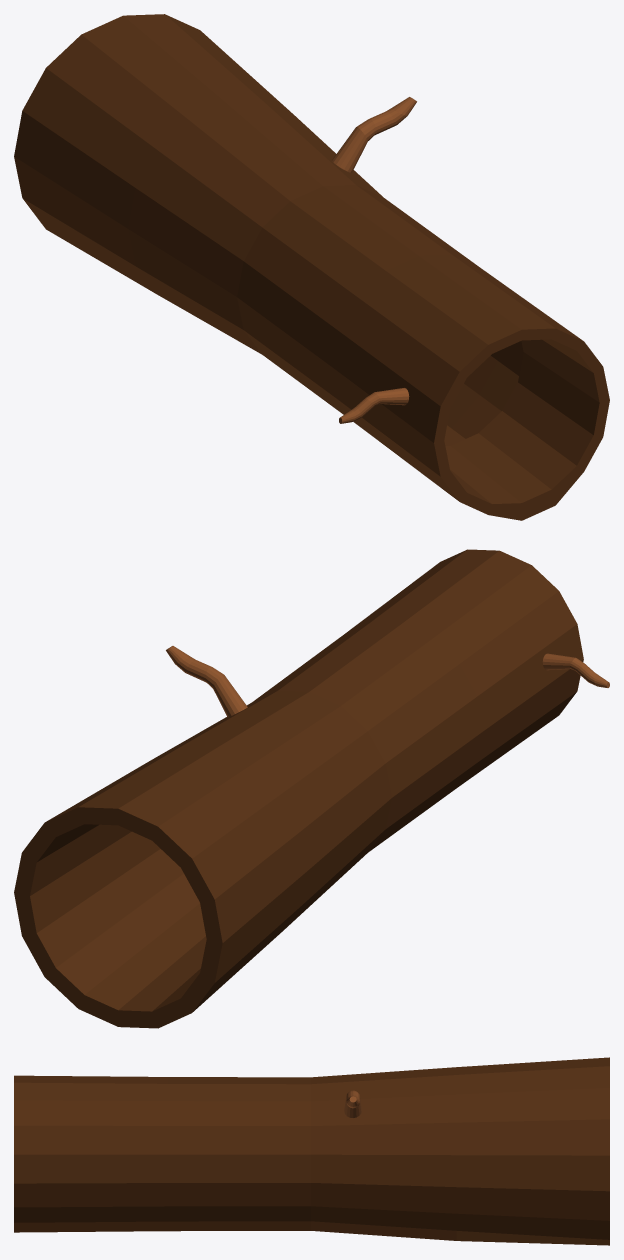
The model's file is Tronco.fbx.
3 renders of one model, top to bottom at view 1: azimuth 30°, elevation 25°; view 2: azimuth 150°, elevation 25°; view 3: azimuth 270°, elevation 25°, orthographic. The views are drawn at different scales.
Parts seen in each view (by area): view 1: Tronco; view 2: Tronco; view 3: Tronco.
Part boxes in pixels (x1,y1,x2,y2): Tronco: (14,14,609,520); Tronco: (14,549,609,1028); Tronco: (14,1057,609,1245).
Bounding box in the file's own units: 206 × 178 × 528.
